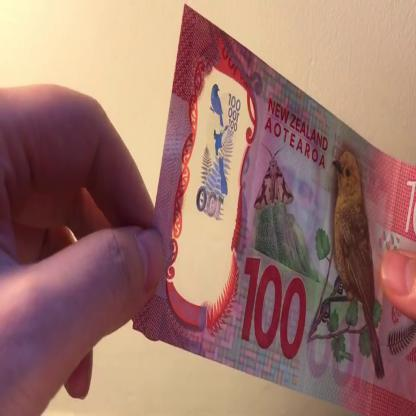100B: (190, 79, 242, 231)
